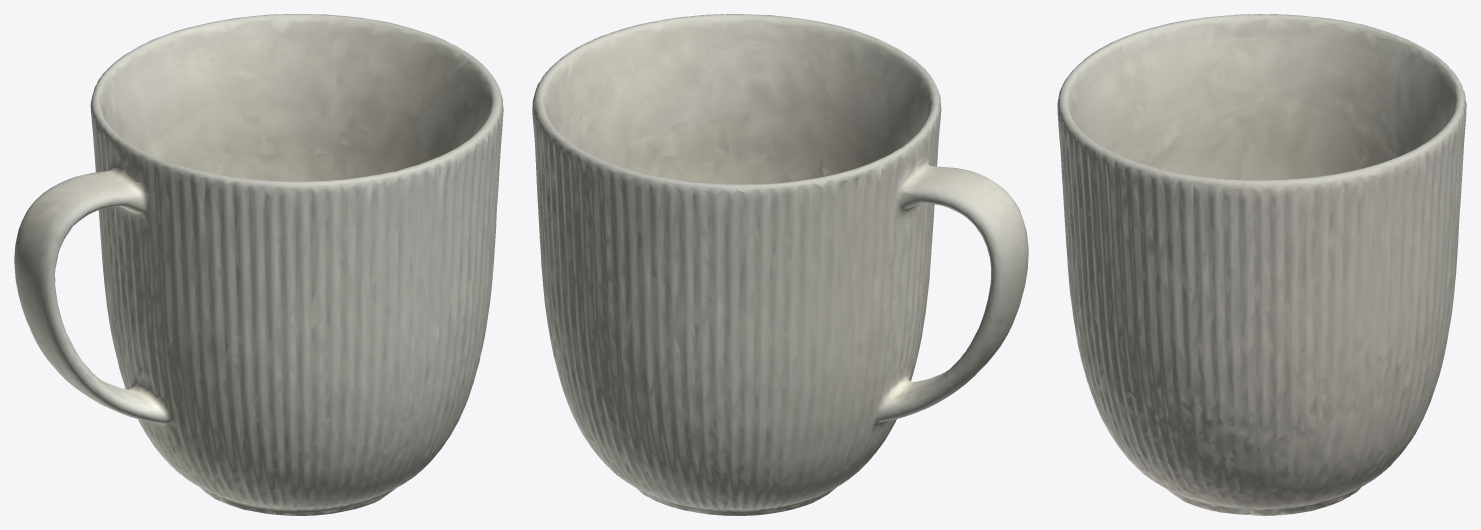
3 views of the same model, side by side, from view 1: azimuth 30°, elevation 25°; view 2: azimuth 150°, elevation 25°; view 3: azimuth 270°, elevation 25° (orthographic).
Visible parts, largest first — view 1: Cup_White; view 2: Cup_White; view 3: Cup_White.
Part boxes in pixels (bbox=[...]): Cup_White: bbox=[14, 14, 503, 515]; Cup_White: bbox=[532, 14, 1028, 515]; Cup_White: bbox=[1057, 14, 1466, 515].
Bounding box in the file's own units: 0.1161 × 0.0916 × 0.0908.
1 material, 1 textured.
